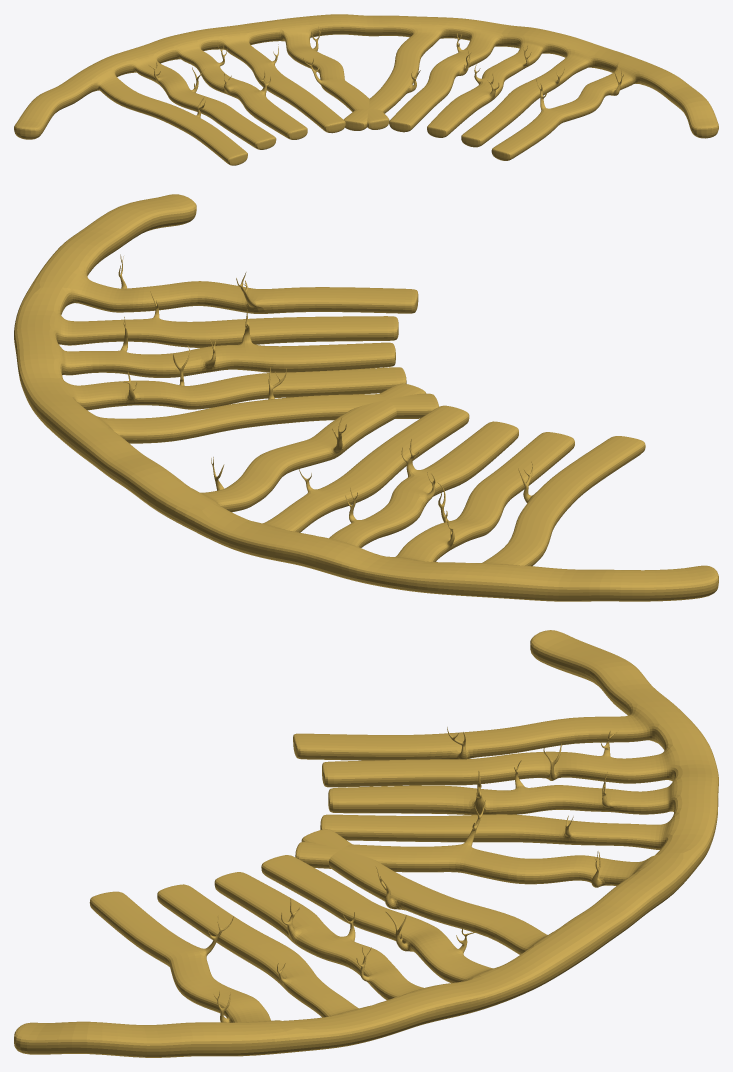
File: dokola_dvoje_spojene.fbx
The picture shows the model from 3 angles, top to bottom: view 1: azimuth 30°, elevation 25°; view 2: azimuth 150°, elevation 25°; view 3: azimuth 270°, elevation 25°; orthographic projection. The views are drawn at different scales.
Parts seen in each view (by area): view 1: prvni; view 2: prvni; view 3: prvni.
Part boxes in pixels (x1=…): prvni: x1=14, y1=14, x2=718, y2=165; prvni: x1=14, y1=194, x2=718, y2=601; prvni: x1=14, y1=630, x2=718, y2=1057.
Size of the model in its own units: 45.11 by 2.86 by 32.2.
